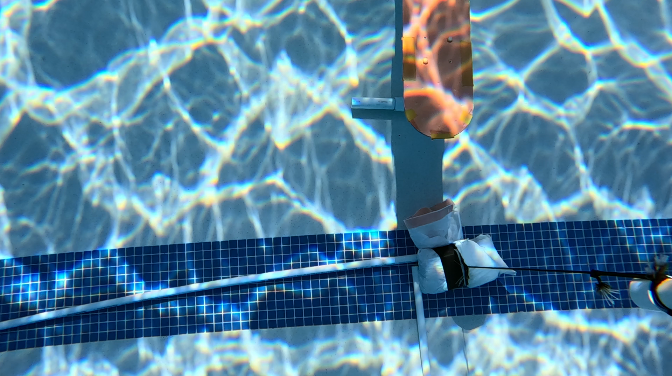pathmarker: (400, 0, 472, 139), (423, 36, 426, 38)
